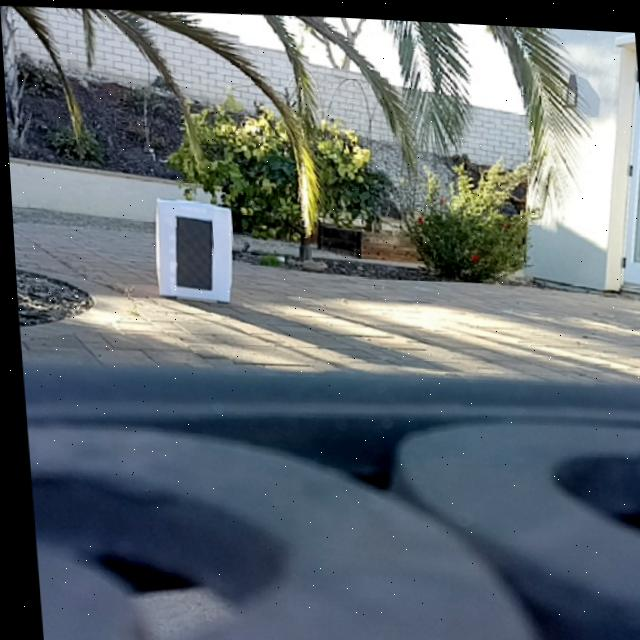led: (169, 213, 213, 289)
